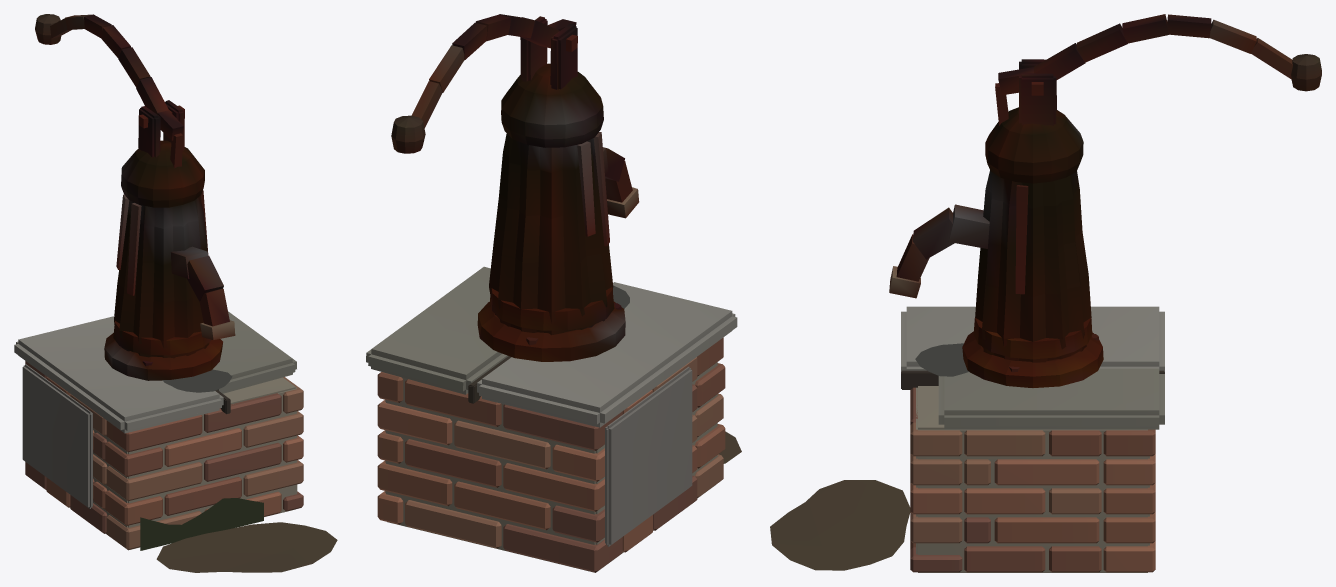
Rendered from pump_old_v2.glb.
3 renders of one model, left to right at view 1: azimuth 30°, elevation 25°; view 2: azimuth 150°, elevation 25°; view 3: azimuth 270°, elevation 25°, orthographic. The views are drawn at different scales.
Parts seen in each view (by area): view 1: hb_main, hb_metal; view 2: hb_main, hb_metal; view 3: hb_main, hb_metal.
Part boxes in pixels (x1,y1,x2,y2): hb_main: (14, 311, 337, 572); hb_metal: (35, 14, 235, 380); hb_main: (366, 266, 741, 572); hb_metal: (391, 14, 639, 361); hb_main: (770, 306, 1164, 572); hb_metal: (889, 14, 1321, 387).
Bounding box in the file's own units: 0.5596 × 1.19 × 1.17.
